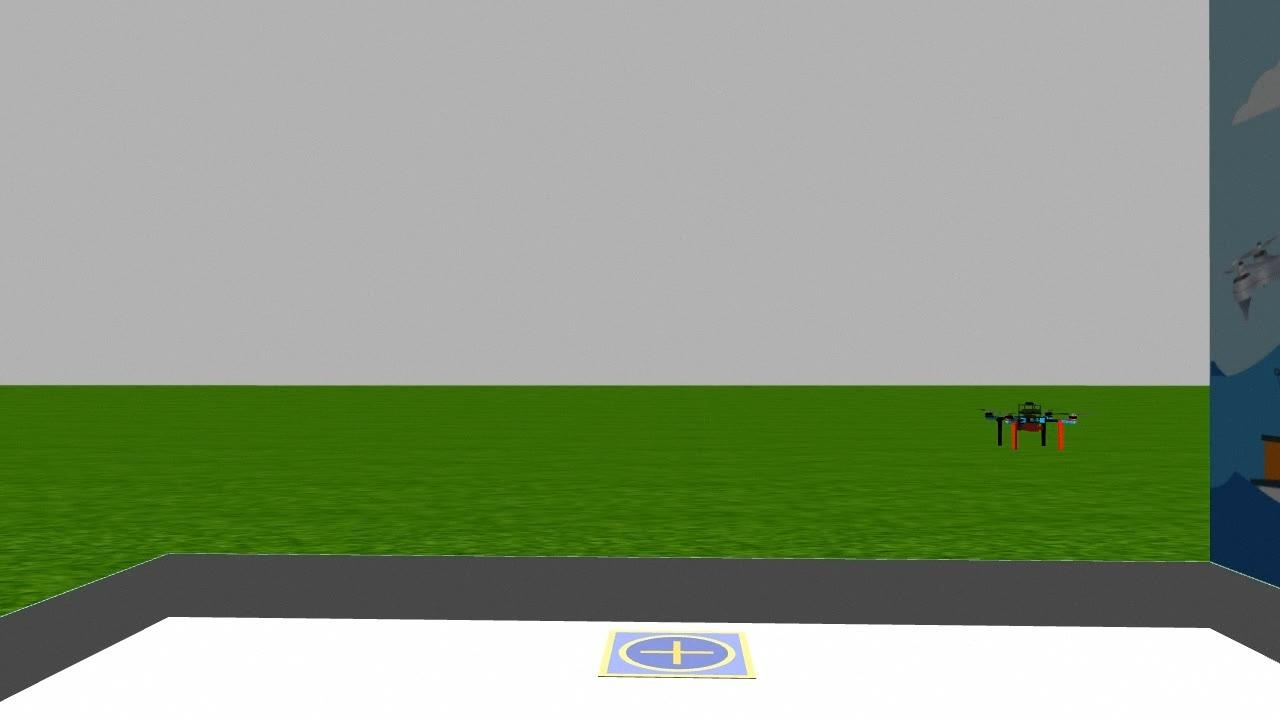UAV: (976, 390, 1084, 462)
